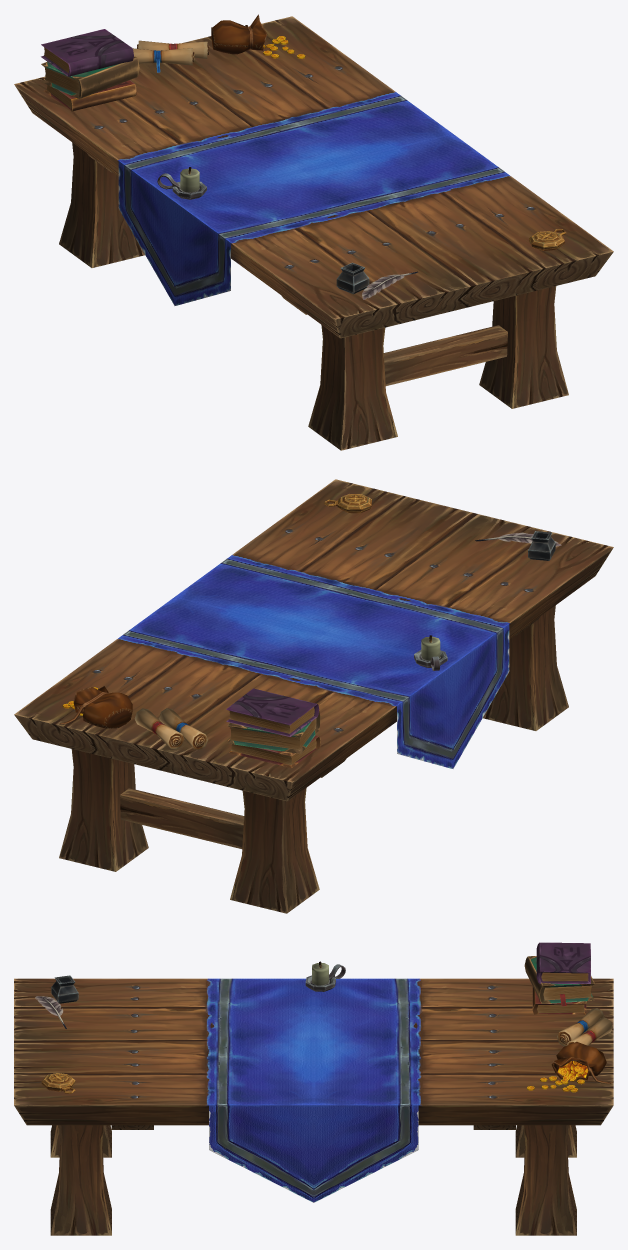
The model's file is hand_paint_table__assets.glb.
3 views of the same model, one above another, from view 1: azimuth 30°, elevation 25°; view 2: azimuth 150°, elevation 25°; view 3: azimuth 270°, elevation 25° (orthographic). The views are drawn at different scales.
Parts seen in each view (by area): view 1: Object_4, Object_3, Object_2; view 2: Object_4, Object_3, Object_2; view 3: Object_4, Object_3, Object_2.
Part boxes in pixels (box(x1,y1,x2,y2)): Object_4: box(14, 16, 613, 450); Object_3: box(41, 14, 566, 299); Object_2: box(41, 29, 133, 76); Object_4: box(14, 479, 613, 913); Object_3: box(60, 494, 561, 768); Object_2: box(226, 688, 319, 736); Object_4: box(14, 978, 613, 1235); Object_3: box(35, 956, 613, 1093); Object_2: box(536, 942, 590, 983).
Size of the model in its own units: 1.01 by 0.6785 by 2.
Materials: 3 (3 with a texture image).
